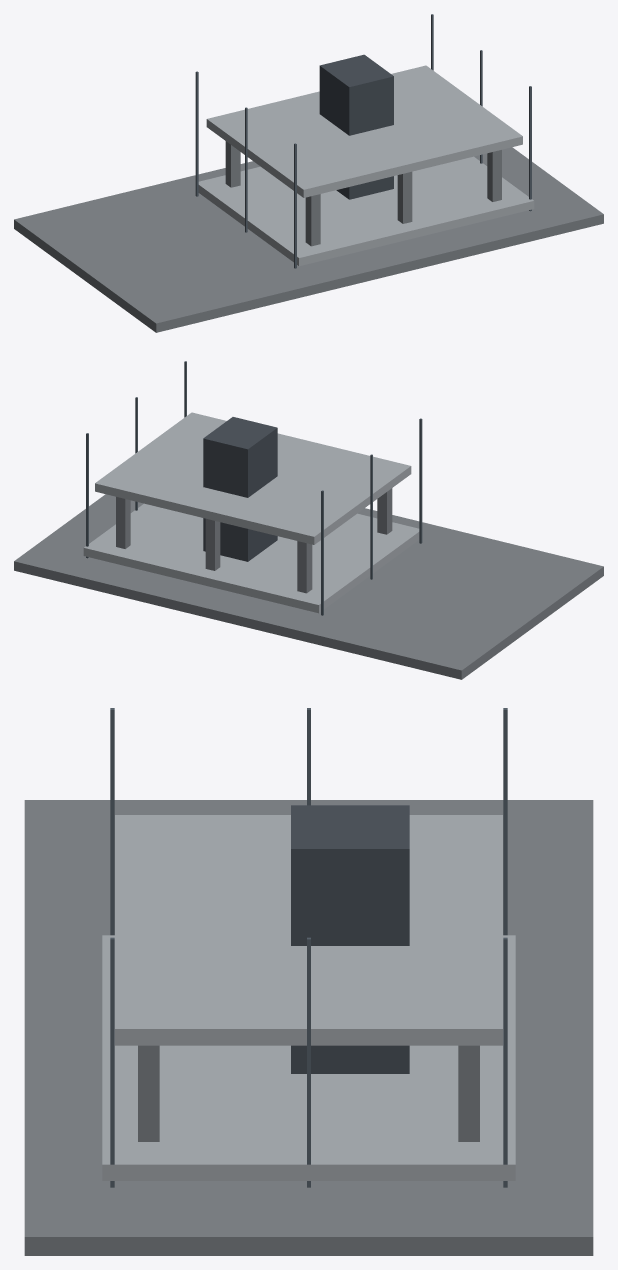
Rendered from Model_ Stage 02 .glb.
3 renders of one model, top to bottom at view 1: azimuth 30°, elevation 25°; view 2: azimuth 150°, elevation 25°; view 3: azimuth 270°, elevation 25°, orthographic. The views are drawn at different scales.
Parts seen in each view (by area): view 1: SailFoundation.001, CoreFloorSlabs, LiftCore, SailCoreColumns, CoreScaffold; view 2: SailFoundation.001, CoreFloorSlabs, LiftCore, SailCoreColumns, CoreScaffold; view 3: CoreFloorSlabs, SailFoundation.001, LiftCore, CoreScaffold, SailCoreColumns.
Boxes of the visible parts, bbox=[...] form: SailFoundation.001: bbox=[14, 147, 603, 332]; CoreFloorSlabs: bbox=[198, 65, 534, 266]; LiftCore: bbox=[319, 54, 393, 199]; SailCoreColumns: bbox=[225, 141, 501, 246]; CoreScaffold: bbox=[195, 14, 531, 268]; SailFoundation.001: bbox=[14, 494, 603, 679]; CoreFloorSlabs: bbox=[83, 412, 419, 613]; LiftCore: bbox=[203, 417, 277, 561]; SailCoreColumns: bbox=[116, 488, 392, 593]; CoreScaffold: bbox=[86, 361, 422, 615]; CoreFloorSlabs: bbox=[102, 815, 515, 1180]; SailFoundation.001: bbox=[24, 800, 593, 1255]; LiftCore: bbox=[291, 805, 409, 1073]; CoreScaffold: bbox=[110, 708, 507, 1187]; SailCoreColumns: bbox=[138, 1045, 479, 1141].
Bounding box in the file's own units: 20 × 5.7 × 11.
